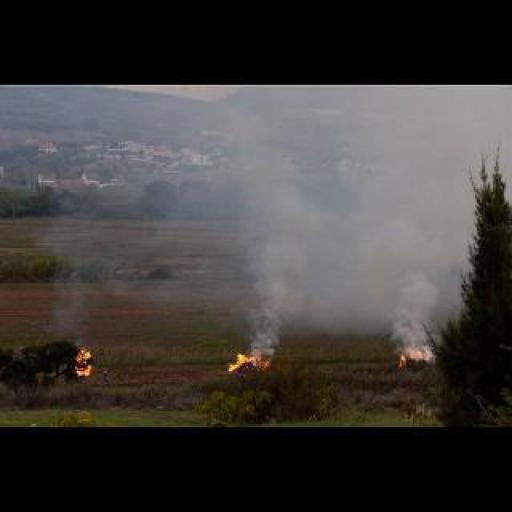smoke: (386, 293, 432, 358), (244, 294, 290, 354), (227, 350, 267, 372), (72, 346, 90, 374), (397, 347, 424, 365)
